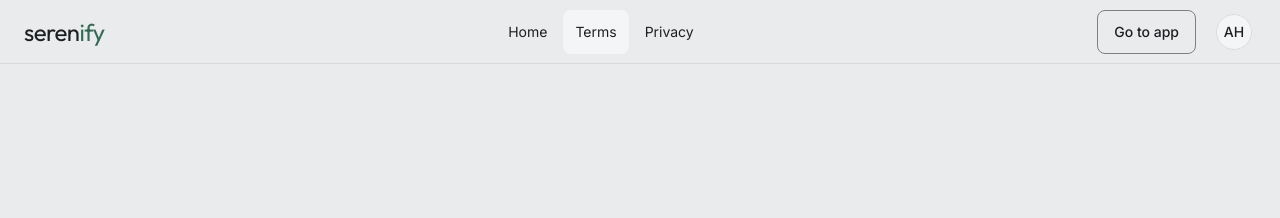
Test: PublicNavbar › signed in › carries Account and Sign out inside the dropdown
Click the button with aria-label "Open profile menu".
click(1234, 32)  # box 1212,10 -> 1256,54
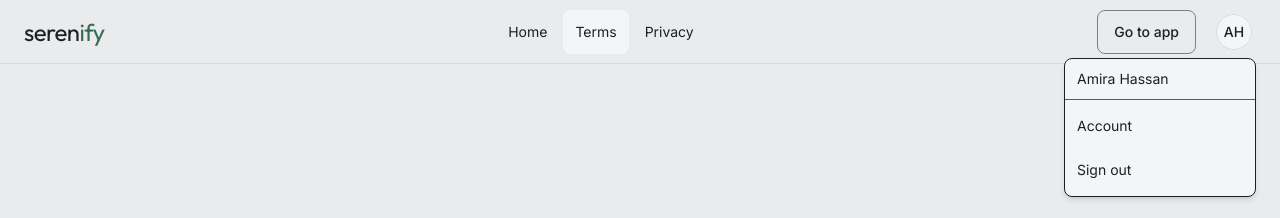
Expected: the menu item with test id "profile-dropdown-signout" is shown, 1077,161 -> 1131,178
